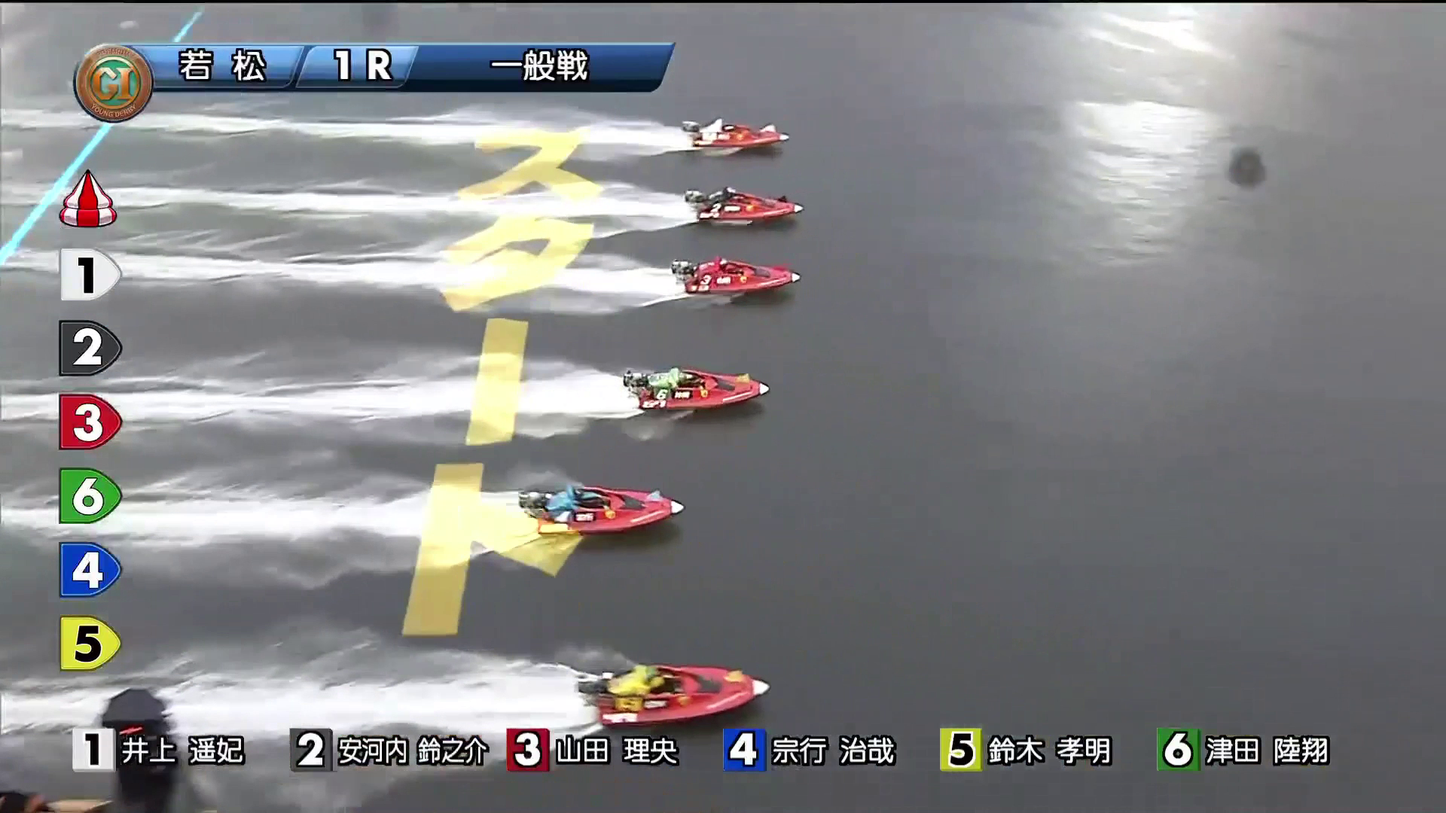１号艇: (721, 110, 779, 157)
２号艇: (692, 188, 795, 226)
３号艇: (680, 257, 805, 298)
４号艇: (664, 360, 768, 403)
５号艇: (547, 481, 667, 536)
６号艇: (590, 658, 748, 714)
